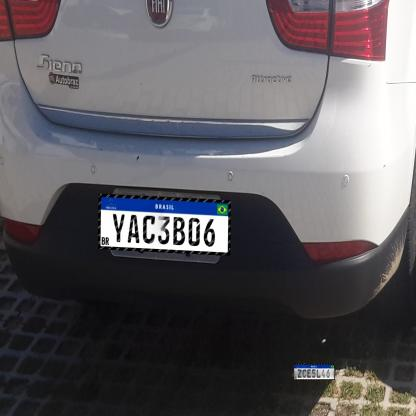PlacaM: (98, 194, 231, 255), (293, 364, 335, 380)
